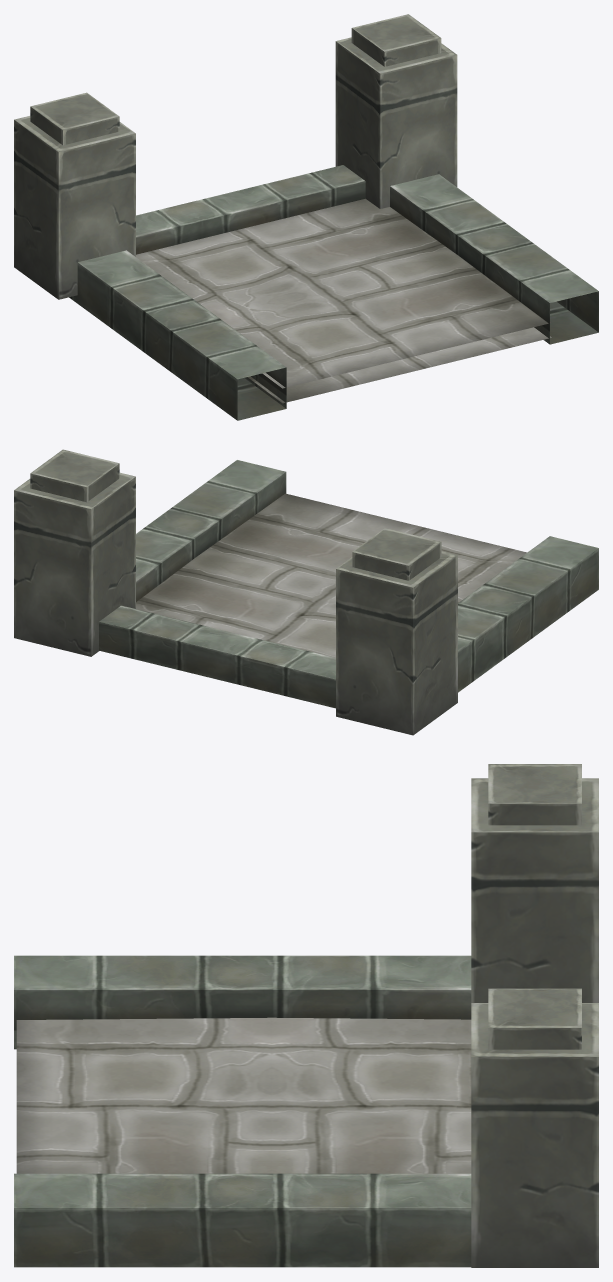
The model's file is bridge_04_tile_03.fbx.
3 views of the same model, one above another, from view 1: azimuth 30°, elevation 25°; view 2: azimuth 150°, elevation 25°; view 3: azimuth 270°, elevation 25° (orthographic). The views are drawn at different scales.
Parts seen in each view (by area): view 1: bridge_04_tile_03; view 2: bridge_04_tile_03; view 3: bridge_04_tile_03.
Part boxes in pixels (x1,y1,x2,y2): bridge_04_tile_03: [14, 14, 598, 420]; bridge_04_tile_03: [14, 449, 598, 735]; bridge_04_tile_03: [14, 764, 598, 1267].
Bounding box in the file's own units: 3.04 × 1.25 × 2.7.
